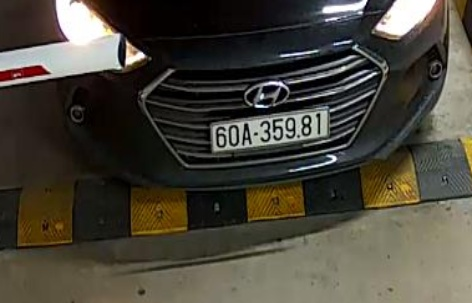plate: (205, 104, 334, 156)
